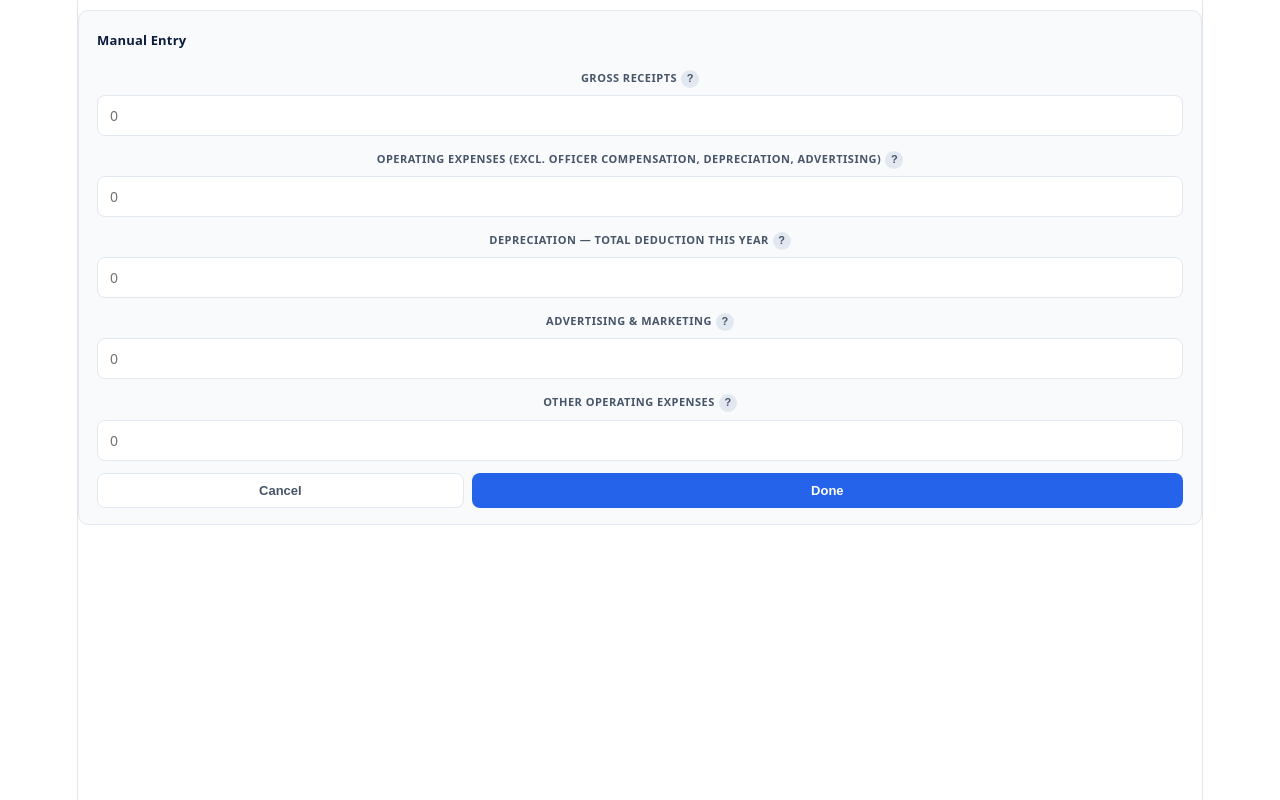
DEP-UNVALIDATED soft warning (Phase 1, Audit Synthesis) — depreciation advisory › renders when depreciation exceeds 50% of this entity’s own gross receipts
Type "200000" into the field named "Gross receipts" at coordinates (640, 116), box [97,95,1183,136]
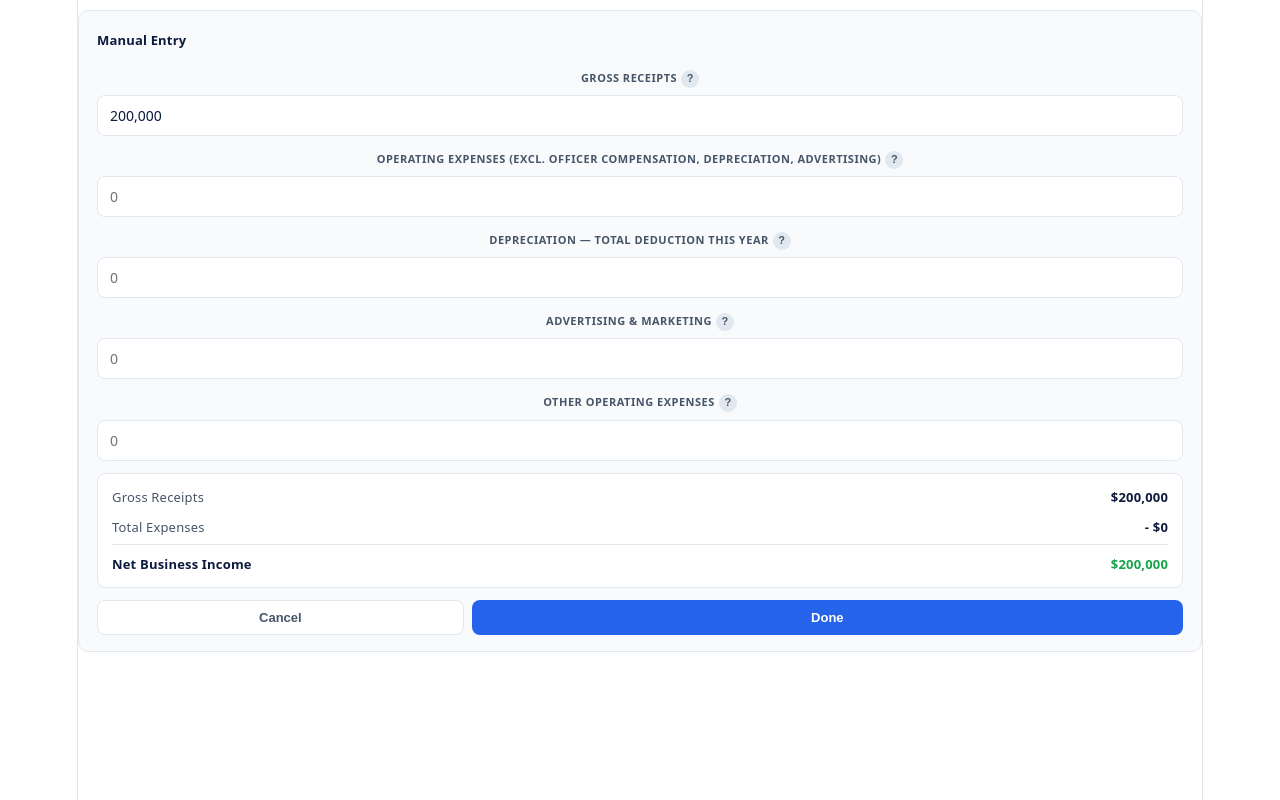
Type "150000" into the field named "Depreciation — total deduction this year" at coordinates (640, 278), box [97,257,1183,298]
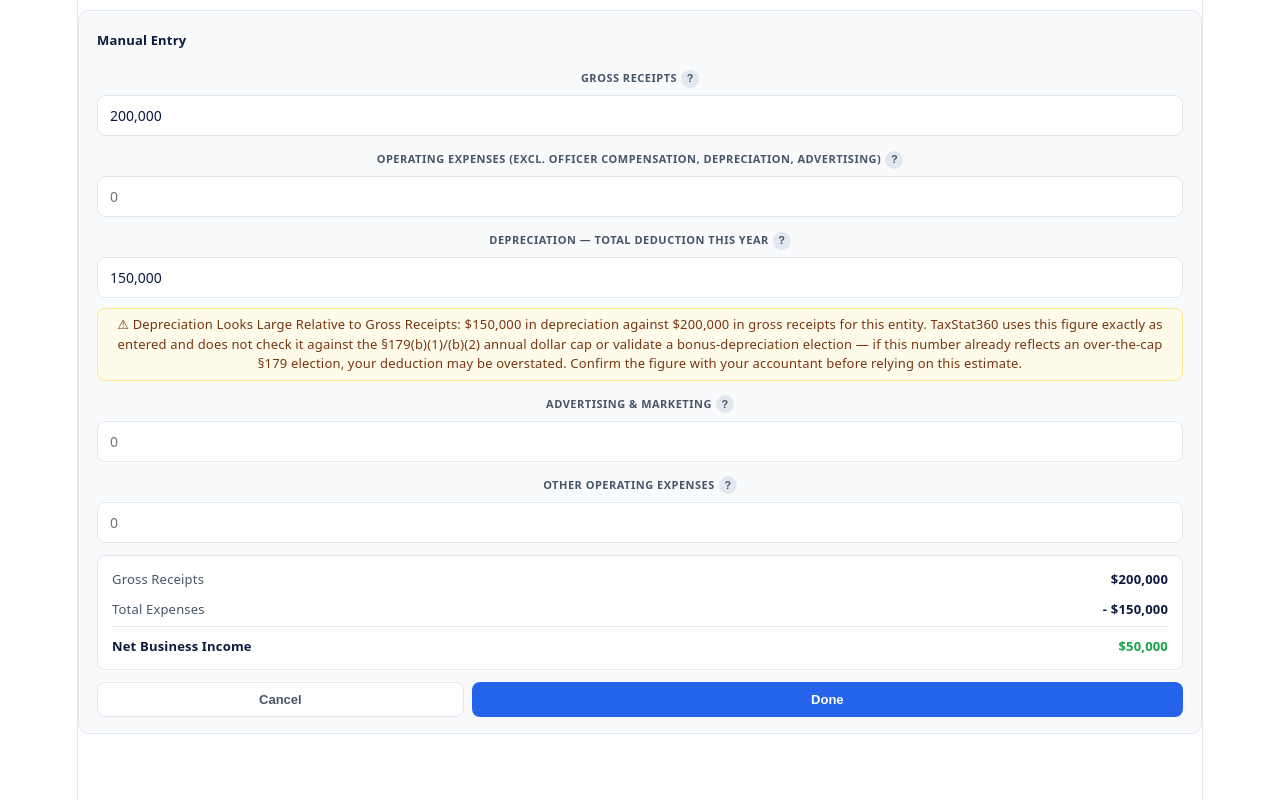
expect the text "Depreciation Looks Large Relative to Gross Receipts" is shown: met, box [117,315,465,333]
